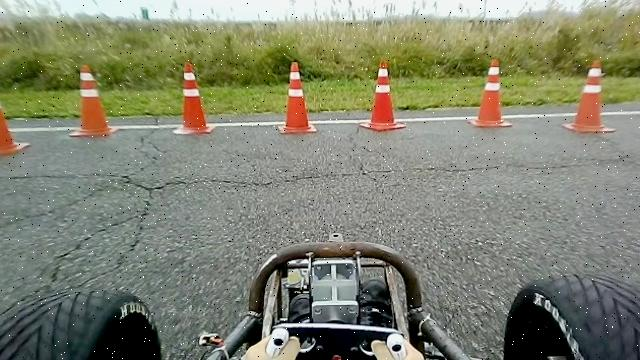red cone: (560, 58, 616, 132), (67, 64, 118, 136), (359, 59, 406, 131), (172, 60, 213, 135), (468, 58, 512, 127), (277, 60, 317, 134)
